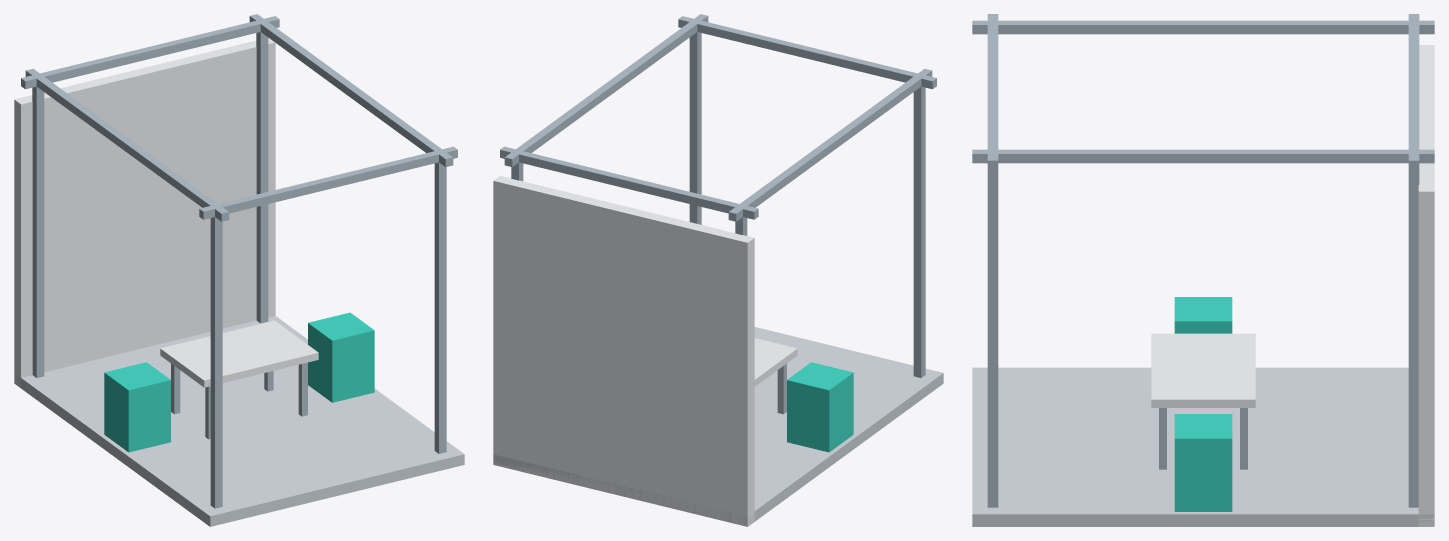
3 renders of one model, left to right at view 1: azimuth 30°, elevation 25°; view 2: azimuth 150°, elevation 25°; view 3: azimuth 270°, elevation 25°, orthographic. The views are drawn at different scales.
Visible parts, largest first — view 1: Exhibition Booth Concept; view 2: Exhibition Booth Concept; view 3: Exhibition Booth Concept.
Part boxes in pixels (<box>): Exhibition Booth Concept: <box>14,14,464,526</box>; Exhibition Booth Concept: <box>493,14,943,526</box>; Exhibition Booth Concept: <box>972,14,1434,526</box>.
Bounding box in the file's own units: 3 × 3.49 × 4.
